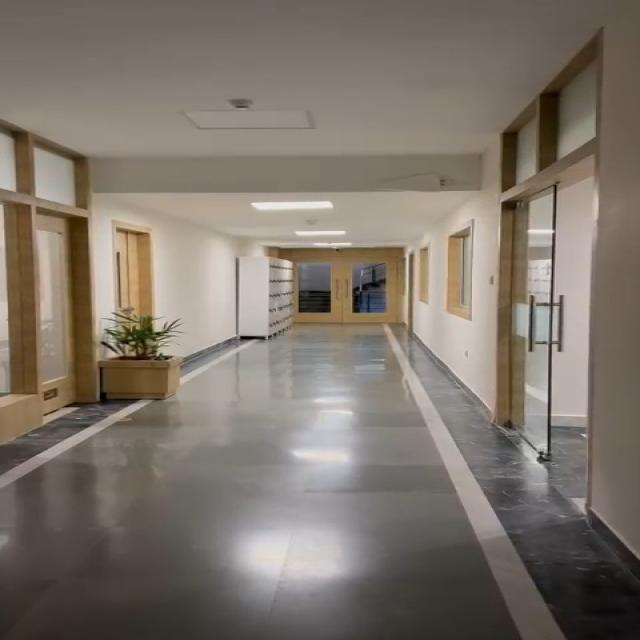door: (488, 114, 620, 506), (0, 140, 99, 442), (240, 224, 467, 339), (97, 212, 174, 312)
floor: (206, 334, 488, 639)
furniture: (107, 304, 187, 404)
